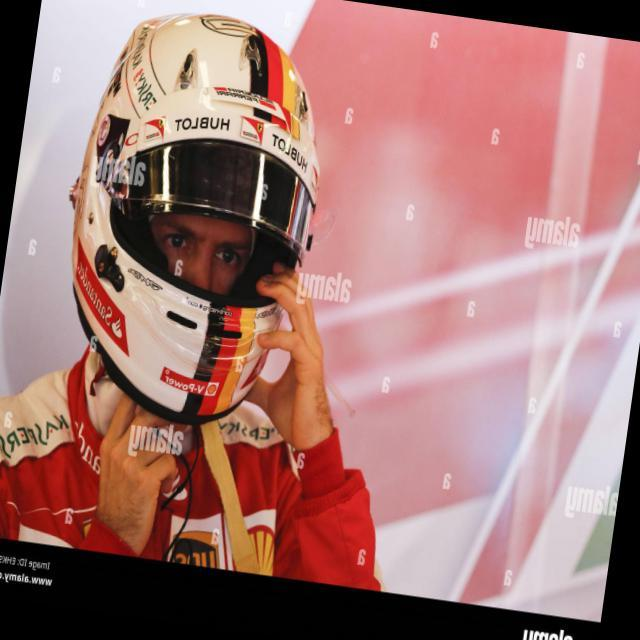Helm: (35, 0, 343, 443)
